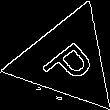P_NE: (34, 30, 99, 91)
